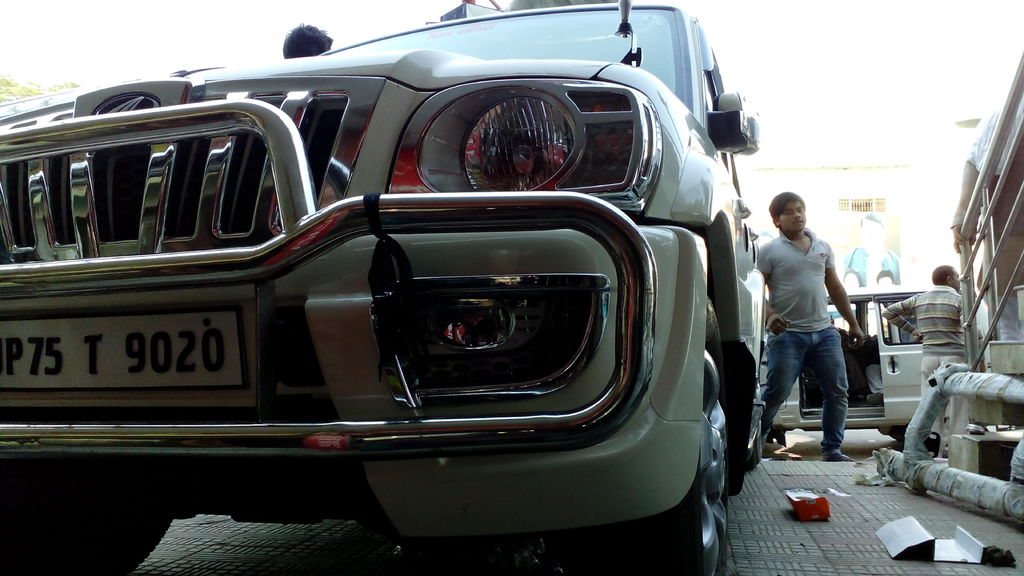mobil: (7, 2, 769, 572)
